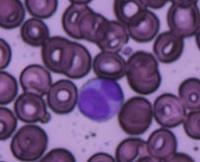M: (76, 78, 123, 122)
